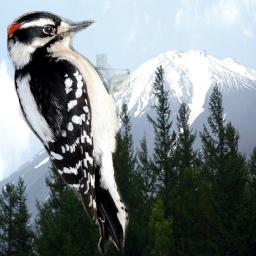Woodpecker: (7, 11, 130, 255)
